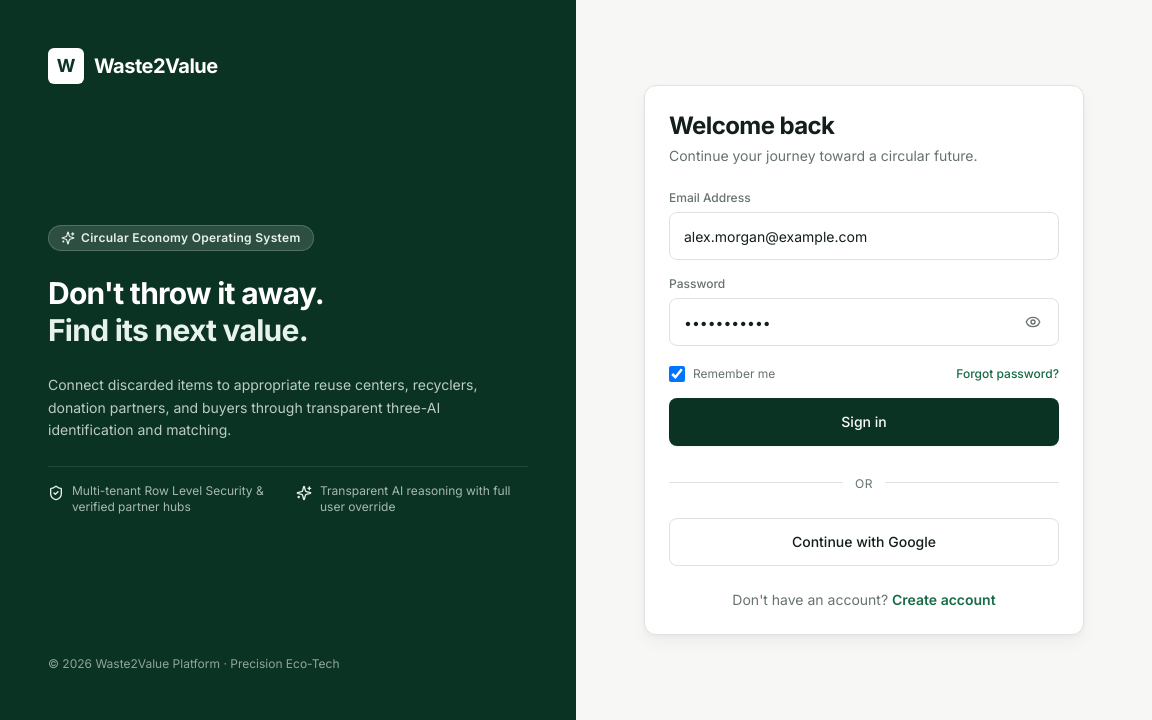
Test: Authentication Flows & Security UX › LoginPage Behavior › toggles password visibility with accessible label update
Click the button named "Show password" at (1033, 322), box [1021,310,1045,334]
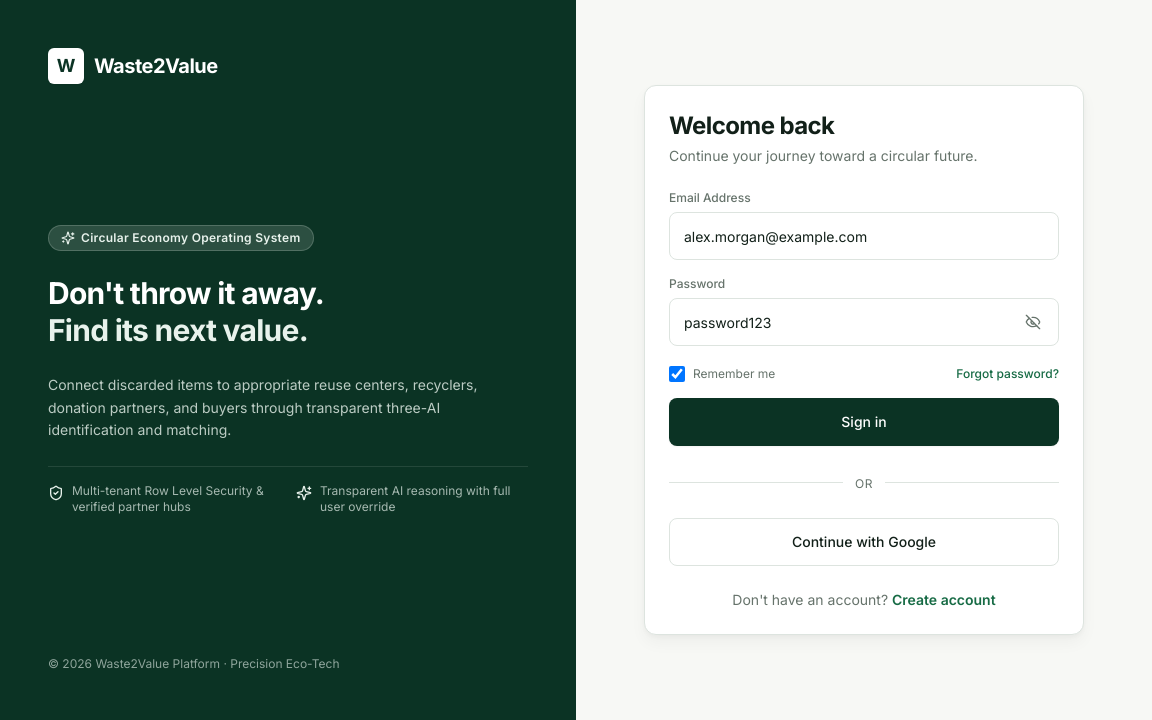
Now the field labelled "Password" shows its text, box [669,298,1059,346]
Now the button named "Hide password" is shown, box [1021,310,1045,334]
